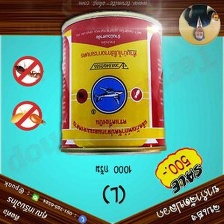insecticide: (58, 9, 169, 157)
